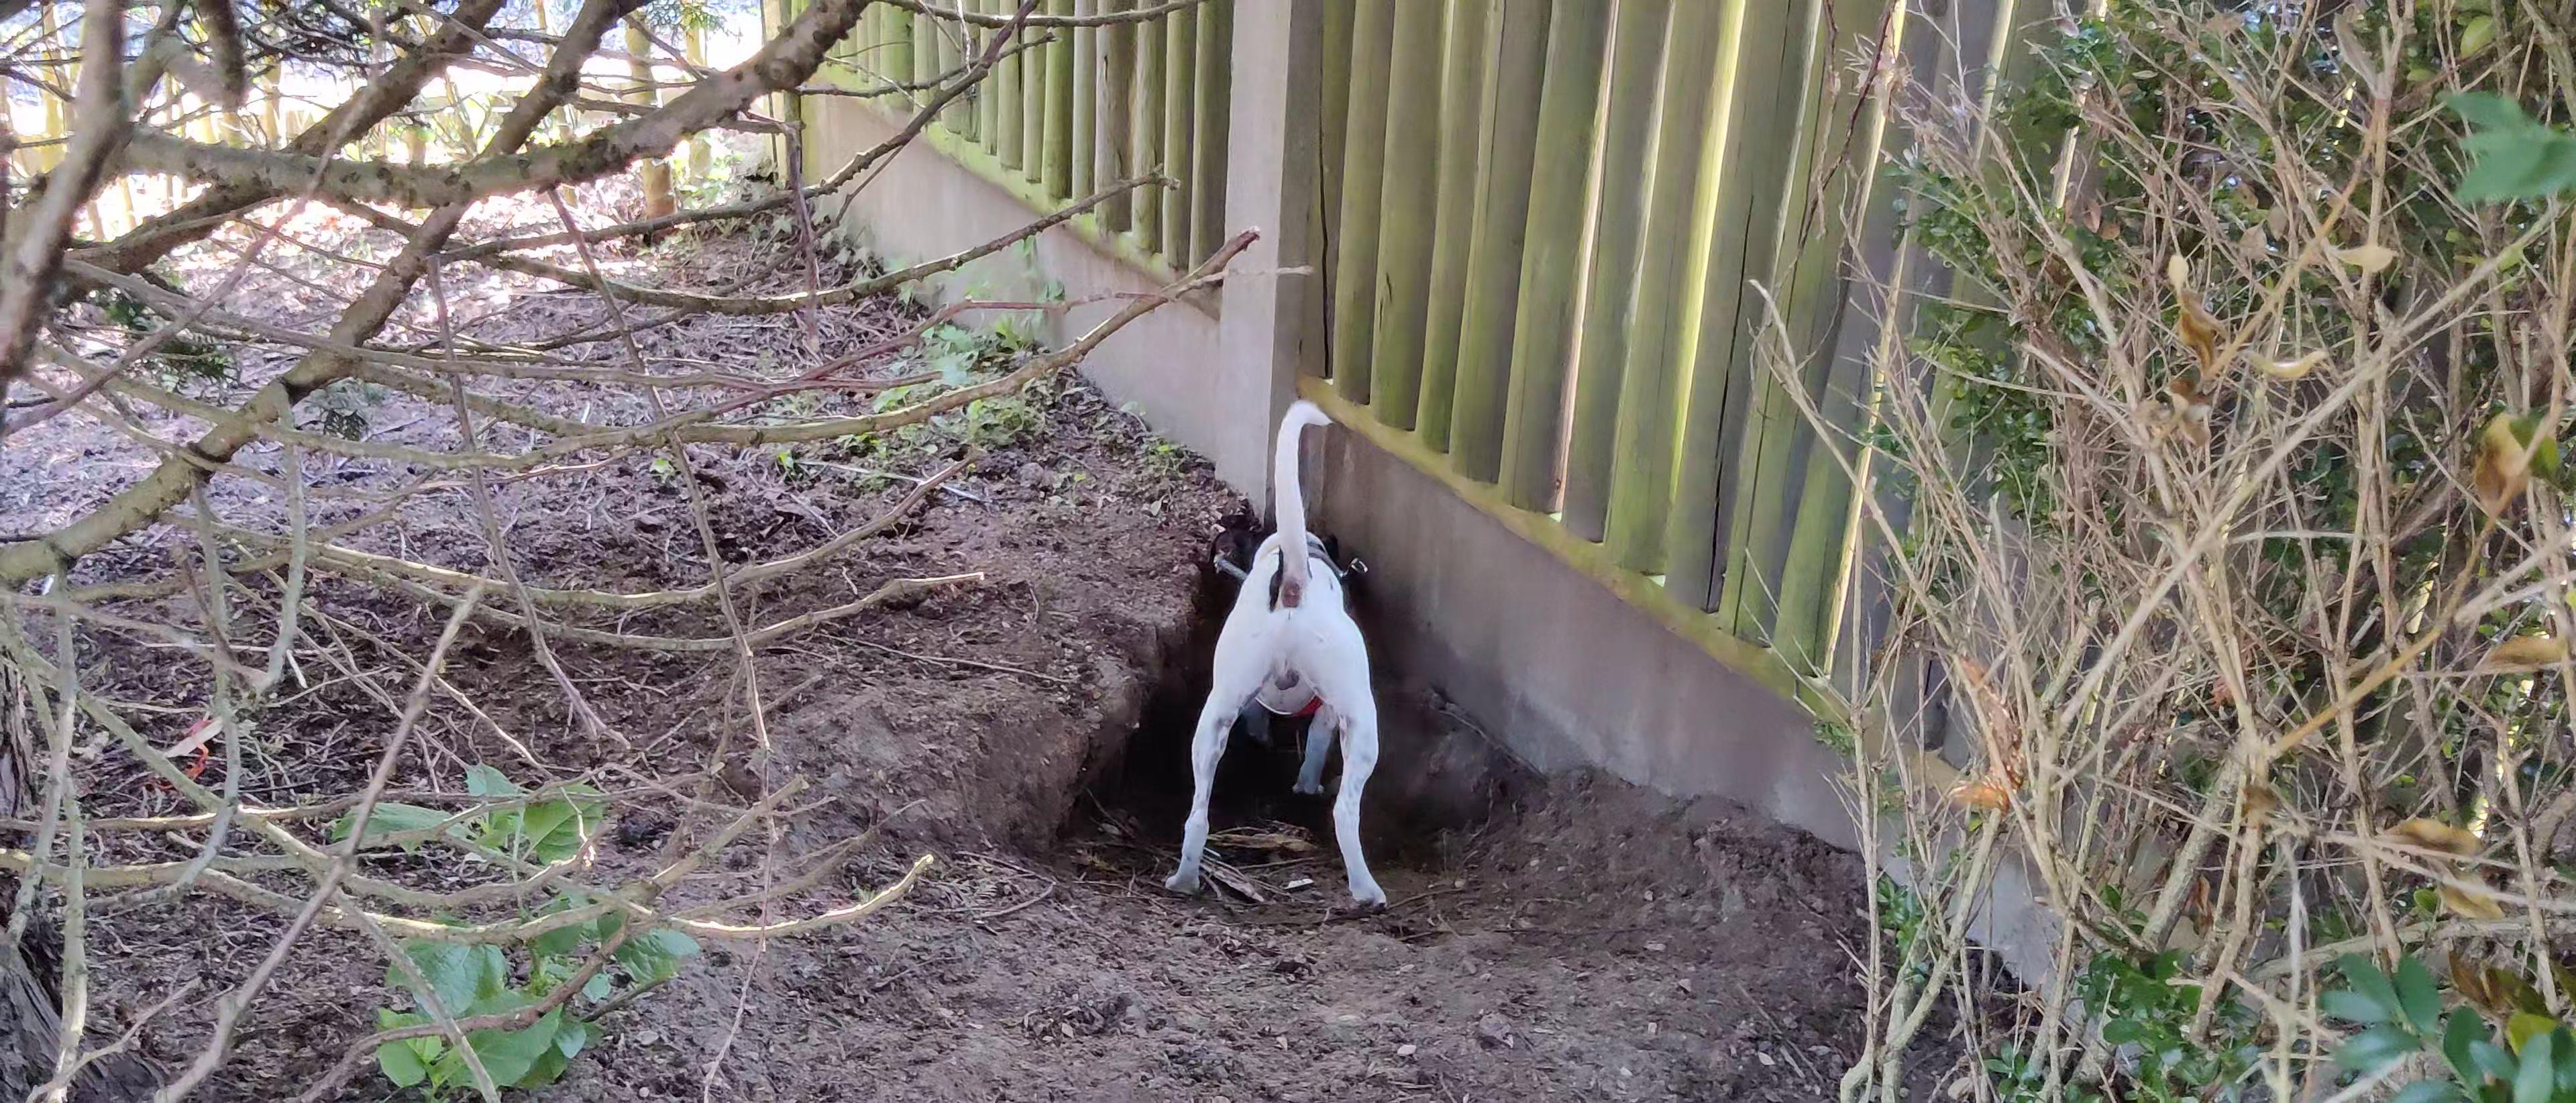Dog: (1106, 378, 1449, 939)
